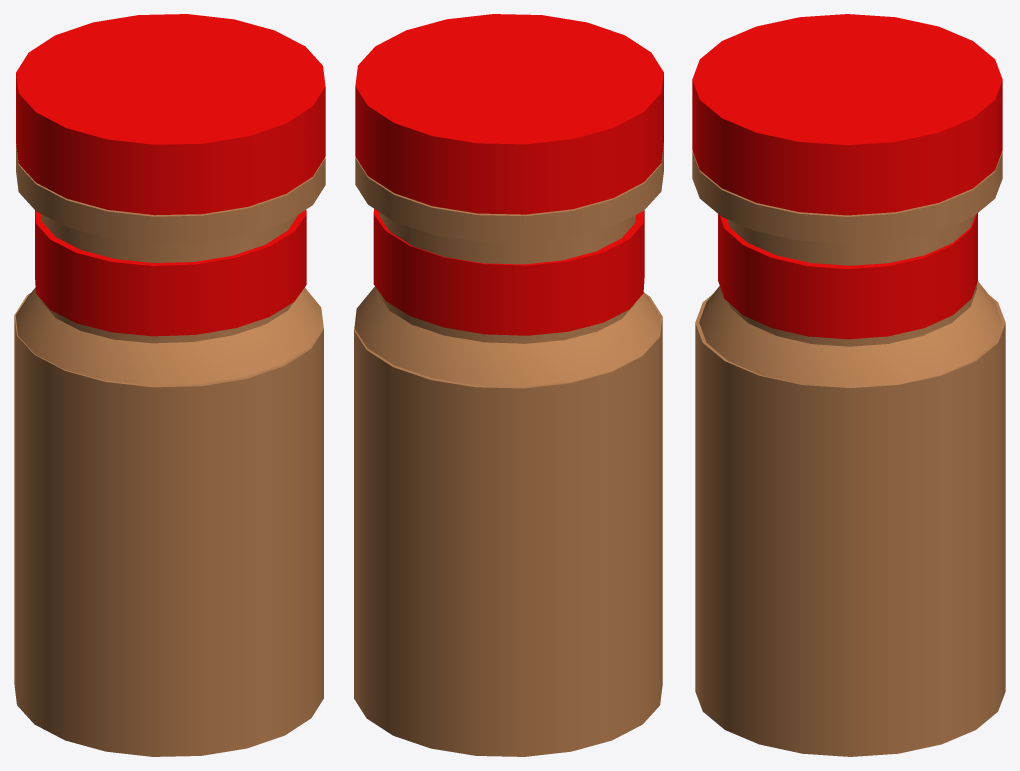
Rendered from Cumin Bottle Export.fbx.
3 views of the same model, side by side, from view 1: azimuth 30°, elevation 25°; view 2: azimuth 150°, elevation 25°; view 3: azimuth 270°, elevation 25° (orthographic).
Visible parts, largest first — view 1: pCone3; view 2: pCone3; view 3: pCone3.
Part boxes in pixels (<box>): pCone3: <box>14,14,325,756</box>; pCone3: <box>354,14,663,756</box>; pCone3: <box>692,14,1005,756</box>.
Bounding box in the file's own units: 2 × 4.35 × 2.02.
